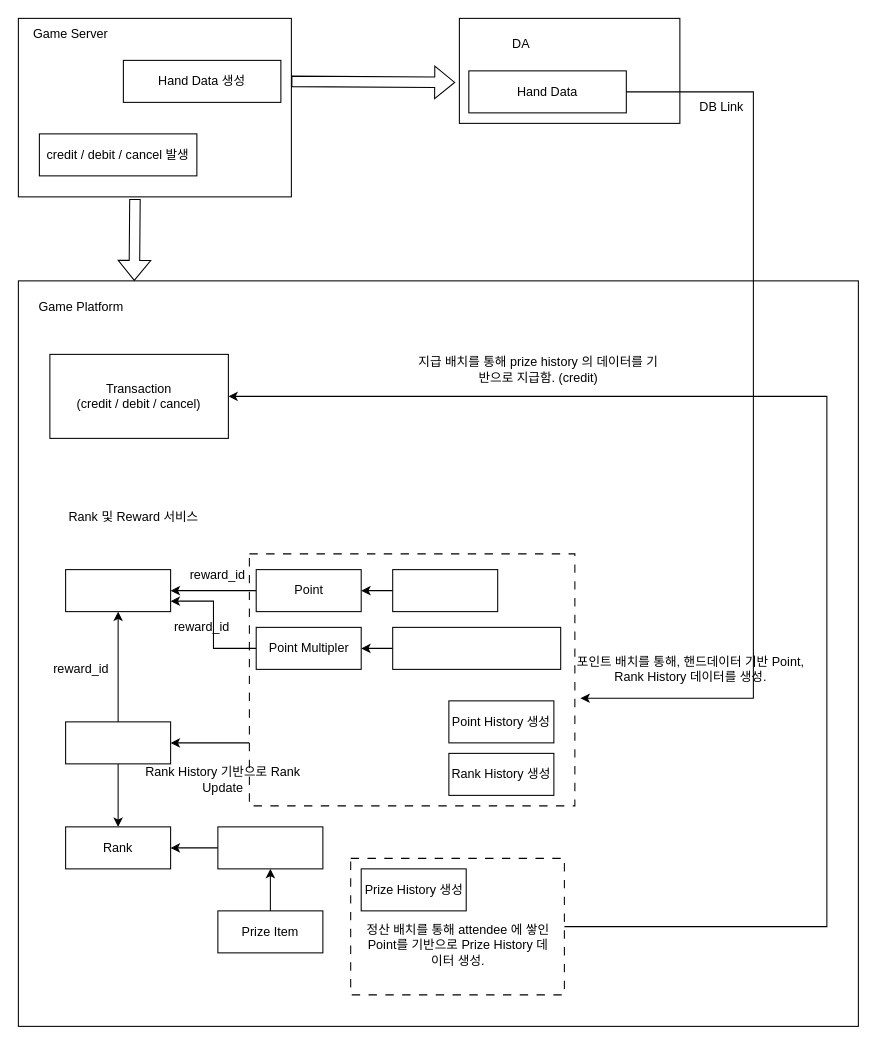
Some shapes in this 877 by 1053 pixel diagram are drawn without their labels. Here are the shapes that lost their labels. From the top down, the centre of each, then its label:
(118,590): Reward
(445,590): Point Condition
(476,647): Point Multipler Condition
(118,742): Attendee
(270,847): Prize
